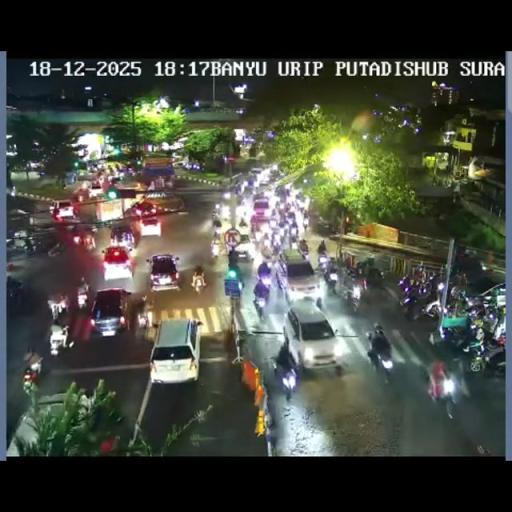Car: (6, 391, 97, 457), (282, 300, 340, 370), (148, 318, 200, 384), (280, 250, 322, 305), (89, 287, 132, 336), (130, 192, 184, 218), (146, 253, 182, 291), (102, 246, 135, 280), (230, 232, 256, 260), (109, 224, 136, 250), (251, 196, 271, 222), (52, 200, 77, 220), (139, 214, 161, 236), (87, 183, 105, 198), (249, 168, 263, 183)
Motorcycle: (266, 190, 308, 248), (432, 316, 479, 358), (398, 272, 438, 319), (427, 370, 458, 418), (366, 337, 394, 383), (478, 339, 506, 377), (273, 358, 297, 398), (22, 351, 43, 389), (451, 361, 471, 400), (48, 322, 71, 354), (27, 234, 58, 256), (135, 295, 153, 331), (253, 280, 270, 318), (46, 290, 69, 318), (318, 255, 338, 286), (462, 300, 488, 322), (490, 307, 506, 340), (449, 284, 469, 306), (353, 268, 369, 295), (6, 275, 22, 300), (256, 262, 272, 286), (190, 272, 206, 295), (346, 286, 360, 312), (76, 284, 90, 309), (259, 239, 274, 260), (270, 230, 284, 250), (345, 255, 358, 276), (296, 240, 310, 259), (81, 232, 95, 251), (234, 202, 249, 219), (220, 200, 234, 218), (210, 236, 220, 258), (287, 223, 299, 240), (211, 220, 222, 238), (235, 186, 246, 203), (317, 244, 327, 262), (212, 203, 222, 220), (248, 222, 258, 238), (268, 214, 279, 228), (294, 190, 305, 204), (278, 250, 288, 265), (372, 322, 383, 334), (301, 215, 309, 231), (238, 217, 248, 228), (222, 189, 231, 201), (290, 238, 298, 250)
